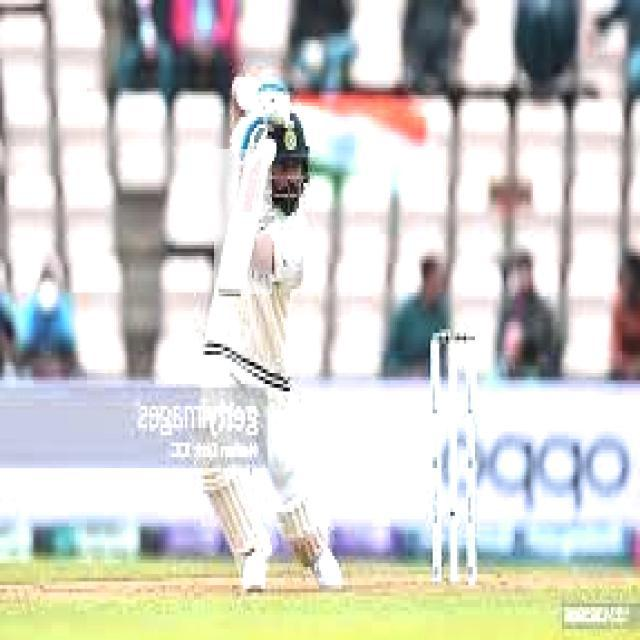bat: (216, 144, 265, 296)
toe: (212, 281, 248, 303)
